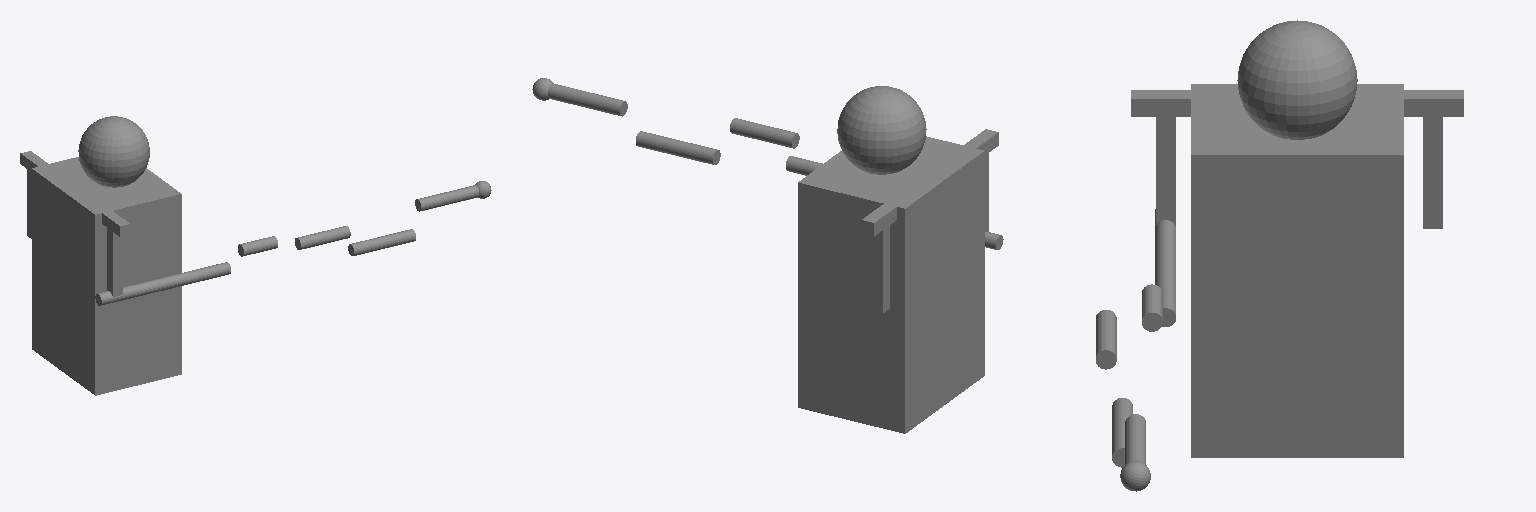
URDF robot description (arm_demo):
<?xml version="1.0" encoding="utf-8"?>
<!-- =================================================================================== -->
<!-- |    This document was autogenerated by xacro from 4dof_4inchlow_robot.xacro      | -->
<!-- |    EDITING THIS FILE BY HAND IS NOT RECOMMENDED                                 | -->
<!-- =================================================================================== -->
<robot name="arm_demo">
  <!-- *************************** XACRO MACROS *************************** -->
  <!-- ************************* ROBOT DEFINITION ************************* -->
  <link name="world"/>
  <link name="shoulder_len">
    <visual>
      <origin rpy="0 0 0" xyz="0 .2475 0"/>
      <geometry>
        <box size="0.03 0.5 0.03"/>
      </geometry>
      <material name="silver">
        <color rgba="0.6 0.6 0.6 1"/>
      </material>
    </visual>
    <collision>
      <origin rpy="0 0 0" xyz="0 -.2475 0"/>
      <geometry>
        <box size="0.03 0.5 0.03"/>
      </geometry>
    </collision>
    <inertial>
      <origin rpy="0 0 0" xyz="0 .2475 0"/>
      <mass value="1.0"/>
      <inertia ixx=".021" ixy="0.0" ixz="0.0" iyy=".021" iyz="0.0" izz=".00015"/>
    </inertial>
  </link>
  <link name="body">
    <visual>
      <origin rpy="0 0 0" xyz=".09 0.2475 -.25"/>
      <geometry>
        <box size="0.25 0.32 .5"/>
      </geometry>
      <material name="silver">
        <color rgba="0.6 0.6 0.6 1"/>
      </material>
    </visual>
    <collision>
      <origin rpy="0 0 0" xyz=".09 0.2475 -.25"/>
      <geometry>
        <box size="0.18 0.32 0.5"/>
      </geometry>
    </collision>
    <inertial>
      <origin rpy="0 0 0" xyz=".09 .2475 -.25"/>
      <mass value="1.0"/>
      <inertia ixx=".112" ixy="0.0" ixz="0.0" iyy=".029" iyz="0.0" izz=".0235"/>
    </inertial>
  </link>
  <link name="head">
    <visual>
      <origin rpy="0 0 0" xyz=".09 0.2475 .09"/>
      <geometry>
        <sphere radius="0.09"/>
      </geometry>
      <material name="silver">
        <color rgba="0.6 0.6 0.6 1"/>
      </material>
    </visual>
    <collision>
      <origin rpy="0 0 0" xyz=".09 0.2475 .09"/>
      <geometry>
        <sphere radius="0.09"/>
      </geometry>
    </collision>
    <inertial>
      <origin rpy="0 0 0" xyz=".09 0.2475 .09"/>
      <mass value="1.0"/>
      <inertia ixx=".00324" ixy="0.0" ixz="0.0" iyy=".00324" iyz="0.0" izz=".00324"/>
    </inertial>
  </link>
  <link name="rodR">
    <visual>
      <origin rpy="0 0 0" xyz="0 .02 -.1"/>
      <geometry>
        <box size="0.03 0.03 0.2"/>
      </geometry>
      <material name="silver">
        <color rgba="0.6 0.6 0.6 1"/>
      </material>
    </visual>
    <collision>
      <origin rpy="0 0 0" xyz="0 -.025 -.1"/>
      <geometry>
        <box size="0.03 0.03 0.2"/>
      </geometry>
    </collision>
    <inertial>
      <origin rpy="0 0 0" xyz="0 -.025 -.1"/>
      <mass value="1.0"/>
      <inertia ixx=".0034" ixy="0.0" ixz="0.0" iyy=".0034" iyz="0.0" izz=".00015"/>
    </inertial>
  </link>
  <link name="rodL">
    <visual>
      <origin rpy="0 0 0" xyz="0 -.025 -.1"/>
      <geometry>
        <box size="0.03 0.03 0.2"/>
      </geometry>
      <material name="silver">
        <color rgba="0.6 0.6 0.6 1"/>
      </material>
    </visual>
    <collision>
      <origin rpy="0 0 0" xyz="0 -.025 -.1"/>
      <geometry>
        <box size="0.03 0.03 0.2"/>
      </geometry>
    </collision>
    <inertial>
      <origin rpy="0 0 0" xyz="0 -.025 -.1"/>
      <mass value="1.0"/>
      <inertia ixx=".0034" ixy="0.0" ixz="0.0" iyy=".0034" iyz="0.0" izz=".00015"/>
    </inertial>
  </link>
  <joint name="right_arm" type="fixed">
    <parent link="world"/>
    <child link="rodR"/>
    <origin rpy="0 0 0" xyz="-.34 0.03 0.5"/>
  </joint>
  <joint name="left_arm" type="fixed">
    <parent link="world"/>
    <child link="rodL"/>
    <origin rpy="0 0 0" xyz="-.34 0.475 0.5"/>
  </joint>
  <joint name="base_base" type="fixed">
    <parent link="world"/>
    <child link="motor1/INPUT_INTERFACE"/>
    <origin rpy="0 0 0" xyz="0 0.03 0.2984"/>
  </joint>
  <joint name="base_s" type="fixed">
    <parent link="world"/>
    <child link="ms1/INPUT_INTERFACE"/>
    <origin rpy="0 0 0" xyz="0 0.03 0.2984"/>
  </joint>
  <joint name="shoulder" type="fixed">
    <parent link="world"/>
    <child link="shoulder_len"/>
    <origin rpy="0 0 0" xyz="-.34 0 0.5"/>
  </joint>
  <joint name="body" type="fixed">
    <parent link="world"/>
    <child link="body"/>
    <origin rpy="0 0 0" xyz="-.34 0 0.515"/>
  </joint>
  <joint name="head" type="fixed">
    <parent link="world"/>
    <child link="head"/>
    <origin rpy="0 0 0" xyz="-.318 0 0.5"/>
  </joint>
  <link name="motor1/INPUT_INTERFACE">
    <visual>
      <origin rpy="0 0 0" xyz="0 0 0"/>
      <geometry>
        <mesh filename="package://hebi_description/meshes/X5.stl" scale="0.001 0.001 0.001"/>
      </geometry>
      <material name="red">
        <color rgba=".82 0.06 0.06 1"/>
      </material>
    </visual>
    <collision>
      <origin rpy="0 0 0" xyz="0 0 0"/>
      <geometry>
        <mesh filename="package://hebi_description/meshes/X5.stl" scale="0.001 0.001 0.001"/>
      </geometry>
    </collision>
    <inertial>
      <origin rpy="0 0 0" xyz="-0.0142 -0.0031 0.0165"/>
      <mass value="0.322"/>
      <mass value="0.360"/>
      <inertia ixx="0.00015" ixy="0.0000341" ixz="0.0000118" iyy="0.000255" iyz="0.00000229" izz="0.000350"/>
    </inertial>
  </link>
  <joint name="motor1/X5_9" type="continuous">
    <parent link="motor1/INPUT_INTERFACE"/>
    <child link="right_arm1/INPUT_INTERFACE"/>
    <origin rpy="0 0 0" xyz="0 0 0.031"/>
    <axis xyz="0 0 1"/>
    <limit effort="13.0" velocity="14"/>
    <dynamics damping="0.1" friction="0.1"/>
  </joint>
  <gazebo reference="motor1/INPUT_INTERFACE">
    <selfCollide>true</selfCollide>
    <gravity>true</gravity>
    <sensor name="motor1/imu_sensor" type="imu">
      <always_on>true</always_on>
      <update_rate>100</update_rate>
      <visualize>true</visualize>
      <plugin filename="libgazebo_imu_sensor.so" name="imu_plugin">
        <topicName>/hebi_gazebo_plugin/imu/motor1</topicName>
        <bodyName>motor1/imu_link</bodyName>
        <updateRateHZ>10.0</updateRateHZ>
        <gaussianNoise>0.0</gaussianNoise>
        <xyzOffset>0.025 0 0.003</xyzOffset>
        <rpyOffset>0 0 0</rpyOffset>
        <frameName>motor1/imu_link</frameName>
      </plugin>
      <pose>0 0 0 0 0 0</pose>
    </sensor>
  </gazebo>
  <link name="ms1/INPUT_INTERFACE">
    <visual>
      <origin rpy="0 0 0" xyz="0 0 0"/>
      <geometry>
        <mesh filename="package://hebi_description/meshes/A-2039-02.stl"/>
      </geometry>
      <material name="black">
        <color rgba="0 0 0 1"/>
      </material>
    </visual>
    <visual>
      <origin rpy="0 1.57075 0" xyz="-0.2 0.02 0"/>
      <geometry>
        <cylinder length="0.3746" radius=".016"/>
      </geometry>
      <material name="silver">
        <color rgba="0.6 0.6 0.6 1"/>
      </material>
    </visual>
    <collision>
      <origin rpy="0 1.57079632679 0" xyz="0 0 0"/>
      <geometry>
        <mesh filename="package://hebi_description/meshes/A-2038-02.stl"/>
      </geometry>
    </collision>
    <collision>
      <origin rpy="0 1.57075 0" xyz="0.2 -0.02 0"/>
      <geometry>
        <cylinder length="0.3746" radius=".016"/>
      </geometry>
    </collision>
    <collision>
      <origin rpy="0 0 0" xyz="0.4 0.0 0.04"/>
      <geometry>
        <mesh filename="package://hebi_description/meshes/A-2039-02.stl"/>
      </geometry>
    </collision>
    <!-- Approximate inertia as thin rod about x axis -->
    <inertial>
      <origin rpy="0 0 0" xyz="0.2 0 0.02"/>
      <mass value="0.432"/>
      <inertia ixx="0.0" ixy="0.0" ixz="0.0" iyy="0.00576" iyz="0.0" izz="0.00576"/>
    </inertial>
  </link>
  <gazebo reference="ms1/INPUT_INTERFACE">
    <selfCollide>true</selfCollide>
  </gazebo>
  <link name="right_arm1/INPUT_INTERFACE">
    <visual>
      <origin rpy="0 0 0" xyz="0 0 0"/>
      <geometry>
        <mesh filename="package://hebi_description/meshes/A-2038-02.stl"/>
      </geometry>
      <material name="black">
        <color rgba="0 0 0 1"/>
      </material>
    </visual>
    <visual>
      <origin rpy="0 1.57075 0" xyz="0.0625 0 0.02"/>
      <geometry>
        <cylinder length="0.0996" radius=".016"/>
      </geometry>
      <material name="silver">
        <color rgba="0.6 0.6 0.6 1"/>
      </material>
    </visual>
    <visual>
      <origin rpy="1.3343 0 0" xyz="0.125 -0.0194432968708 0.0246859584714"/>
      <geometry>
        <mesh filename="package://hebi_description/meshes/A-2039-02.stl"/>
      </geometry>
      <material name="black">
        <color rgba="0 0 0 1"/>
      </material>
    </visual>
    <collision>
      <origin rpy="0 0 0" xyz="0 0 0"/>
      <geometry>
        <mesh filename="package://hebi_description/meshes/A-2038-02.stl"/>
      </geometry>
    </collision>
    <collision>
      <origin rpy="0 1.57075 0" xyz="0.0625 0 0.02"/>
      <geometry>
        <cylinder length="0.0996" radius=".016"/>
      </geometry>
    </collision>
    <collision>
      <origin rpy="1.3343 0 0" xyz="0.125 -0.0194432968708 0.0246859584714"/>
      <geometry>
        <mesh filename="package://hebi_description/meshes/A-2039-02.stl"/>
      </geometry>
    </collision>
    <!-- Approximate inertia as thin rod about x axis -->
    <inertial>
      <origin rpy="0 0 0" xyz="0.0625 0 0.02"/>
      <mass value="0.322"/>
      <inertia ixx="0.0" ixy="0.0" ixz="0.0" iyy="0.000419270833333" iyz="0.0" izz="0.000419270833333"/>
    </inertial>
  </link>
  <joint name="right_arm1/OUTPUT_JOINT" type="fixed">
    <parent link="right_arm1/INPUT_INTERFACE"/>
    <child link="motor2/INPUT_INTERFACE"/>
    <origin rpy="1.3343 0 0" xyz="0.125 -0.0194432968708 0.0246859584714"/>
  </joint>
  <gazebo reference="right_arm1/INPUT_INTERFACE">
    <selfCollide>true</selfCollide>
  </gazebo>
  <link name="motor2/INPUT_INTERFACE">
    <visual>
      <origin rpy="0 0 0" xyz="0 0 0"/>
      <geometry>
        <mesh filename="package://hebi_description/meshes/X5.stl" scale="0.001 0.001 0.001"/>
      </geometry>
      <material name="red">
        <color rgba=".82 0.06 0.06 1"/>
      </material>
    </visual>
    <collision>
      <origin rpy="0 0 0" xyz="0 0 0"/>
      <geometry>
        <mesh filename="package://hebi_description/meshes/X5.stl" scale="0.001 0.001 0.001"/>
      </geometry>
    </collision>
    <inertial>
      <origin rpy="0 0 0" xyz="-0.0142 -0.0031 0.0165"/>
      <mass value="0.322"/>
      <mass value="0.360"/>
      <inertia ixx="0.00015" ixy="0.0000341" ixz="0.0000118" iyy="0.000255" iyz="0.00000229" izz="0.000350"/>
    </inertial>
  </link>
  <joint name="motor2/X5_9" type="continuous">
    <parent link="motor2/INPUT_INTERFACE"/>
    <child link="right_arm2/INPUT_INTERFACE"/>
    <origin rpy="0 0 0" xyz="0 0 0.031"/>
    <axis xyz="0 0 1"/>
    <limit effort="13.0" velocity="14"/>
    <dynamics damping="0.1" friction="0.1"/>
  </joint>
  <gazebo reference="motor2/INPUT_INTERFACE">
    <selfCollide>true</selfCollide>
    <gravity>true</gravity>
    <sensor name="motor2/imu_sensor" type="imu">
      <always_on>true</always_on>
      <update_rate>100</update_rate>
      <visualize>true</visualize>
      <plugin filename="libgazebo_imu_sensor.so" name="imu_plugin">
        <topicName>/hebi_gazebo_plugin/imu/motor2</topicName>
        <bodyName>motor2/imu_link</bodyName>
        <updateRateHZ>10.0</updateRateHZ>
        <gaussianNoise>0.0</gaussianNoise>
        <xyzOffset>0.025 0 0.003</xyzOffset>
        <rpyOffset>0 0 0</rpyOffset>
        <frameName>motor2/imu_link</frameName>
      </plugin>
      <pose>0 0 0 0 0 0</pose>
    </sensor>
  </gazebo>
  <link name="right_arm2/INPUT_INTERFACE">
    <visual>
      <origin rpy="0 0 0" xyz="0 0 0"/>
      <geometry>
        <mesh filename="package://hebi_description/meshes/A-2038-02.stl"/>
      </geometry>
      <material name="black">
        <color rgba="0 0 0 1"/>
      </material>
    </visual>
    <visual>
      <origin rpy="0 1.57075 0" xyz="0.0846 0 0.02"/>
      <geometry>
        <cylinder length="0.1438" radius=".016"/>
      </geometry>
      <material name="silver">
        <color rgba="0.6 0.6 0.6 1"/>
      </material>
    </visual>
    <visual>
      <origin rpy="2.163 0 0" xyz="0.1692 -0.0165942524924 0.00883618415505"/>
      <geometry>
        <mesh filename="package://hebi_description/meshes/A-2039-02.stl"/>
      </geometry>
      <material name="black">
        <color rgba="0 0 0 1"/>
      </material>
    </visual>
    <collision>
      <origin rpy="0 0 0" xyz="0 0 0"/>
      <geometry>
        <mesh filename="package://hebi_description/meshes/A-2038-02.stl"/>
      </geometry>
    </collision>
    <collision>
      <origin rpy="0 1.57075 0" xyz="0.0846 0 0.02"/>
      <geometry>
        <cylinder length="0.1438" radius=".016"/>
      </geometry>
    </collision>
    <collision>
      <origin rpy="2.163 0 0" xyz="0.1692 -0.0165942524924 0.00883618415505"/>
      <geometry>
        <mesh filename="package://hebi_description/meshes/A-2039-02.stl"/>
      </geometry>
    </collision>
    <!-- Approximate inertia as thin rod about x axis -->
    <inertial>
      <origin rpy="0 0 0" xyz="0.0846 0 0.02"/>
      <mass value="0.33968"/>
      <inertia ixx="0.0" ixy="0.0" ixz="0.0" iyy="0.0008103813696" iyz="0.0" izz="0.0008103813696"/>
    </inertial>
  </link>
  <joint name="right_arm2/OUTPUT_JOINT" type="fixed">
    <parent link="right_arm2/INPUT_INTERFACE"/>
    <child link="motor3/INPUT_INTERFACE"/>
    <origin rpy="2.163 0 0" xyz="0.1692 -0.0165942524924 0.00883618415505"/>
  </joint>
  <gazebo reference="right_arm2/INPUT_INTERFACE">
    <selfCollide>true</selfCollide>
  </gazebo>
  <link name="motor3/INPUT_INTERFACE">
    <visual>
      <origin rpy="0 0 0" xyz="0 0 0"/>
      <geometry>
        <mesh filename="package://hebi_description/meshes/X5.stl" scale="0.001 0.001 0.001"/>
      </geometry>
      <material name="red">
        <color rgba=".82 0.06 0.06 1"/>
      </material>
    </visual>
    <collision>
      <origin rpy="0 0 0" xyz="0 0 0"/>
      <geometry>
        <mesh filename="package://hebi_description/meshes/X5.stl" scale="0.001 0.001 0.001"/>
      </geometry>
    </collision>
    <inertial>
      <origin rpy="0 0 0" xyz="-0.0142 -0.0031 0.0165"/>
      <mass value="0.322"/>
      <mass value="0.360"/>
      <inertia ixx="0.00015" ixy="0.0000341" ixz="0.0000118" iyy="0.000255" iyz="0.00000229" izz="0.000350"/>
    </inertial>
  </link>
  <joint name="motor3/X5_9" type="continuous">
    <parent link="motor3/INPUT_INTERFACE"/>
    <child link="right_arm3/INPUT_INTERFACE"/>
    <origin rpy="0 0 0" xyz="0 0 0.031"/>
    <axis xyz="0 0 1"/>
    <limit effort="13.0" velocity="14"/>
    <dynamics damping="0.1" friction="0.1"/>
  </joint>
  <gazebo reference="motor3/INPUT_INTERFACE">
    <selfCollide>true</selfCollide>
    <gravity>true</gravity>
    <sensor name="motor3/imu_sensor" type="imu">
      <always_on>true</always_on>
      <update_rate>100</update_rate>
      <visualize>true</visualize>
      <plugin filename="libgazebo_imu_sensor.so" name="imu_plugin">
        <topicName>/hebi_gazebo_plugin/imu/motor3</topicName>
        <bodyName>motor3/imu_link</bodyName>
        <updateRateHZ>10.0</updateRateHZ>
        <gaussianNoise>0.0</gaussianNoise>
        <xyzOffset>0.025 0 0.003</xyzOffset>
        <rpyOffset>0 0 0</rpyOffset>
        <frameName>motor3/imu_link</frameName>
      </plugin>
      <pose>0 0 0 0 0 0</pose>
    </sensor>
  </gazebo>
  <link name="right_arm3/INPUT_INTERFACE">
    <visual>
      <origin rpy="0 0 0" xyz="0 0 0"/>
      <geometry>
        <mesh filename="package://hebi_description/meshes/A-2038-02.stl"/>
      </geometry>
      <material name="black">
        <color rgba="0 0 0 1"/>
      </material>
    </visual>
    <visual>
      <origin rpy="0 1.57075 0" xyz="0.1024 0 0.02"/>
      <geometry>
        <cylinder length="0.1794" radius=".016"/>
      </geometry>
      <material name="silver">
        <color rgba="0.6 0.6 0.6 1"/>
      </material>
    </visual>
    <visual>
      <origin rpy="-3.7736 0 0" xyz="0.2048 -0.0118153112202 0.00386313472914"/>
      <geometry>
        <mesh filename="package://hebi_description/meshes/A-2039-02.stl"/>
      </geometry>
      <material name="black">
        <color rgba="0 0 0 1"/>
      </material>
    </visual>
    <collision>
      <origin rpy="0 0 0" xyz="0 0 0"/>
      <geometry>
        <mesh filename="package://hebi_description/meshes/A-2038-02.stl"/>
      </geometry>
    </collision>
    <collision>
      <origin rpy="0 1.57075 0" xyz="0.1024 0 0.02"/>
      <geometry>
        <cylinder length="0.1794" radius=".016"/>
      </geometry>
    </collision>
    <collision>
      <origin rpy="-3.7736 0 0" xyz="0.2048 -0.0118153112202 0.00386313472914"/>
      <geometry>
        <mesh filename="package://hebi_description/meshes/A-2039-02.stl"/>
      </geometry>
    </collision>
    <!-- Approximate inertia as thin rod about x axis -->
    <inertial>
      <origin rpy="0 0 0" xyz="0.1024 0 0.02"/>
      <mass value="0.35392"/>
      <inertia ixx="0.0" ixy="0.0" ixz="0.0" iyy="0.00123704005973" iyz="0.0" izz="0.00123704005973"/>
    </inertial>
  </link>
  <joint name="right_arm3/OUTPUT_JOINT" type="fixed">
    <parent link="right_arm3/INPUT_INTERFACE"/>
    <child link="motor4/INPUT_INTERFACE"/>
    <origin rpy="-3.7736 0 0" xyz="0.2048 -0.0118153112202 0.00386313472914"/>
  </joint>
  <gazebo reference="right_arm3/INPUT_INTERFACE">
    <selfCollide>true</selfCollide>
  </gazebo>
  <link name="motor4/INPUT_INTERFACE">
    <visual>
      <origin rpy="0 0 0" xyz="0 0 0"/>
      <geometry>
        <mesh filename="package://hebi_description/meshes/X5.stl" scale="0.001 0.001 0.001"/>
      </geometry>
      <material name="red">
        <color rgba=".82 0.06 0.06 1"/>
      </material>
    </visual>
    <collision>
      <origin rpy="0 0 0" xyz="0 0 0"/>
      <geometry>
        <mesh filename="package://hebi_description/meshes/X5.stl" scale="0.001 0.001 0.001"/>
      </geometry>
    </collision>
    <inertial>
      <origin rpy="0 0 0" xyz="-0.0142 -0.0031 0.0165"/>
      <mass value="0.322"/>
      <mass value="0.335"/>
      <inertia ixx="0.00015" ixy="0.0000341" ixz="0.0000118" iyy="0.000255" iyz="0.00000229" izz="0.000350"/>
    </inertial>
  </link>
  <joint name="motor4/X5_4" type="continuous">
    <parent link="motor4/INPUT_INTERFACE"/>
    <child link="sensor/INPUT_INTERFACE"/>
    <origin rpy="0 0 0" xyz="0 0 0.031"/>
    <axis xyz="0 0 1"/>
    <limit effort="7.0" velocity="32"/>
    <dynamics damping="0.1" friction="0.1"/>
  </joint>
  <gazebo reference="motor4/INPUT_INTERFACE">
    <selfCollide>true</selfCollide>
    <gravity>true</gravity>
    <sensor name="motor4/imu_sensor" type="imu">
      <always_on>true</always_on>
      <update_rate>100</update_rate>
      <visualize>true</visualize>
      <plugin filename="libgazebo_imu_sensor.so" name="imu_plugin">
        <topicName>/hebi_gazebo_plugin/imu/motor4</topicName>
        <bodyName>motor4/imu_link</bodyName>
        <updateRateHZ>10.0</updateRateHZ>
        <gaussianNoise>0.0</gaussianNoise>
        <xyzOffset>0.025 0 0.003</xyzOffset>
        <rpyOffset>0 0 0</rpyOffset>
        <frameName>motor4/imu_link</frameName>
      </plugin>
      <pose>0 0 0 0 0 0</pose>
    </sensor>
  </gazebo>
  <link name="sensor/INPUT_INTERFACE">
    <visual>
      <origin rpy="0 0 0" xyz="0 0 0"/>
      <geometry>
        <mesh filename="package://hebi_description/meshes/A-2038-02.stl"/>
      </geometry>
      <material name="black">
        <color rgba="0 0 0 1"/>
      </material>
    </visual>
    <visual>
      <origin rpy="0 1.57075 0" xyz="0.0967 0 0.02"/>
      <geometry>
        <cylinder length="0.168" radius=".016"/>
      </geometry>
      <material name="silver">
        <color rgba="0.6 0.6 0.6 1"/>
      </material>
    </visual>
    <visual>
      <origin rpy="0 0 0" xyz="0.1984 0 0.02"/>
      <geometry>
        <sphere radius="0.023"/>
      </geometry>
      <material name="silver">
        <color rgba="0.6 0.6 0.6 1"/>
      </material>
    </visual>
    <collision>
      <origin rpy="0 0 0" xyz="0 0 0"/>
      <geometry>
        <mesh filename="package://hebi_description/meshes/A-2038-02.stl"/>
      </geometry>
    </collision>
    <collision>
      <origin rpy="0 1.57075 0" xyz="0.0967 0 0.02"/>
      <geometry>
        <cylinder length="0.168" radius=".016"/>
      </geometry>
    </collision>
    <collision>
      <origin rpy="0 0 0" xyz="0.1934 0 0.02"/>
      <geometry>
        <sphere radius="0.02"/>
      </geometry>
    </collision>
    <!-- Approximate inertia as thin rod about x axis -->
    <inertial>
      <origin rpy="0 0 0" xyz="0.0967 0 0.02"/>
      <mass value="0.34936"/>
      <inertia ixx="0.0" ixy="0.0" ixz="0.0" iyy="0.00108894231013" iyz="0.0" izz="0.00108894231013"/>
    </inertial>
  </link>
  <joint name="end_joint" type="fixed">
    <parent link="sensor/INPUT_INTERFACE"/>
    <child link="end_link/INPUT_INTERFACE"/>
    <origin rpy="0 0 0" xyz="0.1934 0 0.02"/>
  </joint>
  <gazebo reference="sensor/INPUT_INTERFACE">
    <selfCollide>true</selfCollide>
  </gazebo>
  <!-- end link -->
  <link name="end_link/INPUT_INTERFACE">
  </link>
  <gazebo reference="base">
    <selfCollide>true</selfCollide>
  </gazebo>
  <gazebo>
    <plugin filename="libhebi_gazebo_plugin.so" name="hebi_gazebo_plugin">
    </plugin>
  </gazebo>
</robot>

--- Render facts (derived) ---
Views: 3 orthographic renders of the robot side by side, from view 1: azimuth 30°, elevation 25°; view 2: azimuth 150°, elevation 25°; view 3: azimuth 270°, elevation 25°.
Robot: arm_demo — 16 links, 15 joints (4 continuous, 11 fixed); root link world; default pose: all joints at 0.
Visible links, largest first — view 1: body, head, ms1/INPUT_INTERFACE, shoulder_len, sensor/INPUT_INTERFACE, rodR, right_arm3/INPUT_INTERFACE, right_arm2/INPUT_INTERFACE; view 2: body, head, shoulder_len, rodL, sensor/INPUT_INTERFACE, right_arm3/INPUT_INTERFACE, right_arm2/INPUT_INTERFACE; view 3: body, head, shoulder_len, rodL, rodR, ms1/INPUT_INTERFACE, sensor/INPUT_INTERFACE, right_arm2/INPUT_INTERFACE, right_arm3/INPUT_INTERFACE, right_arm1/INPUT_INTERFACE.
Link boxes in pixels (left/top/right/bottom): body: left=32, top=157, right=181, bottom=395; head: left=78, top=116, right=149, bottom=187; ms1/INPUT_INTERFACE: left=95, top=262, right=230, bottom=305; shoulder_len: left=20, top=151, right=130, bottom=236; sensor/INPUT_INTERFACE: left=415, top=181, right=491, bottom=211; rodR: left=107, top=223, right=122, bottom=296; right_arm3/INPUT_INTERFACE: left=348, top=229, right=415, bottom=255; right_arm2/INPUT_INTERFACE: left=295, top=226, right=350, bottom=249; body: left=798, top=136, right=984, bottom=433; head: left=837, top=86, right=926, bottom=174; shoulder_len: left=862, top=129, right=998, bottom=236; rodL: left=870, top=219, right=889, bottom=313; sensor/INPUT_INTERFACE: left=532, top=78, right=627, bottom=116; right_arm3/INPUT_INTERFACE: left=636, top=131, right=720, bottom=164; right_arm2/INPUT_INTERFACE: left=730, top=118, right=799, bottom=148; body: left=1191, top=84, right=1403, bottom=457; head: left=1237, top=20, right=1357, bottom=139; shoulder_len: left=1131, top=90, right=1463, bottom=116; rodL: left=1423, top=108, right=1442, bottom=228; rodR: left=1156, top=108, right=1175, bottom=225; ms1/INPUT_INTERFACE: left=1155, top=209, right=1175, bottom=326; sensor/INPUT_INTERFACE: left=1120, top=414, right=1150, bottom=491; right_arm2/INPUT_INTERFACE: left=1096, top=310, right=1116, bottom=369; right_arm3/INPUT_INTERFACE: left=1112, top=398, right=1132, bottom=467; right_arm1/INPUT_INTERFACE: left=1142, top=284, right=1162, bottom=331.
Size in the robot's own frame: 1.11 by 0.5525 by 0.665 metres.
0 mesh visuals loaded from 3 distinct referenced files (none loaded); not drawn: 12 (reference not matched to a file when rendering).